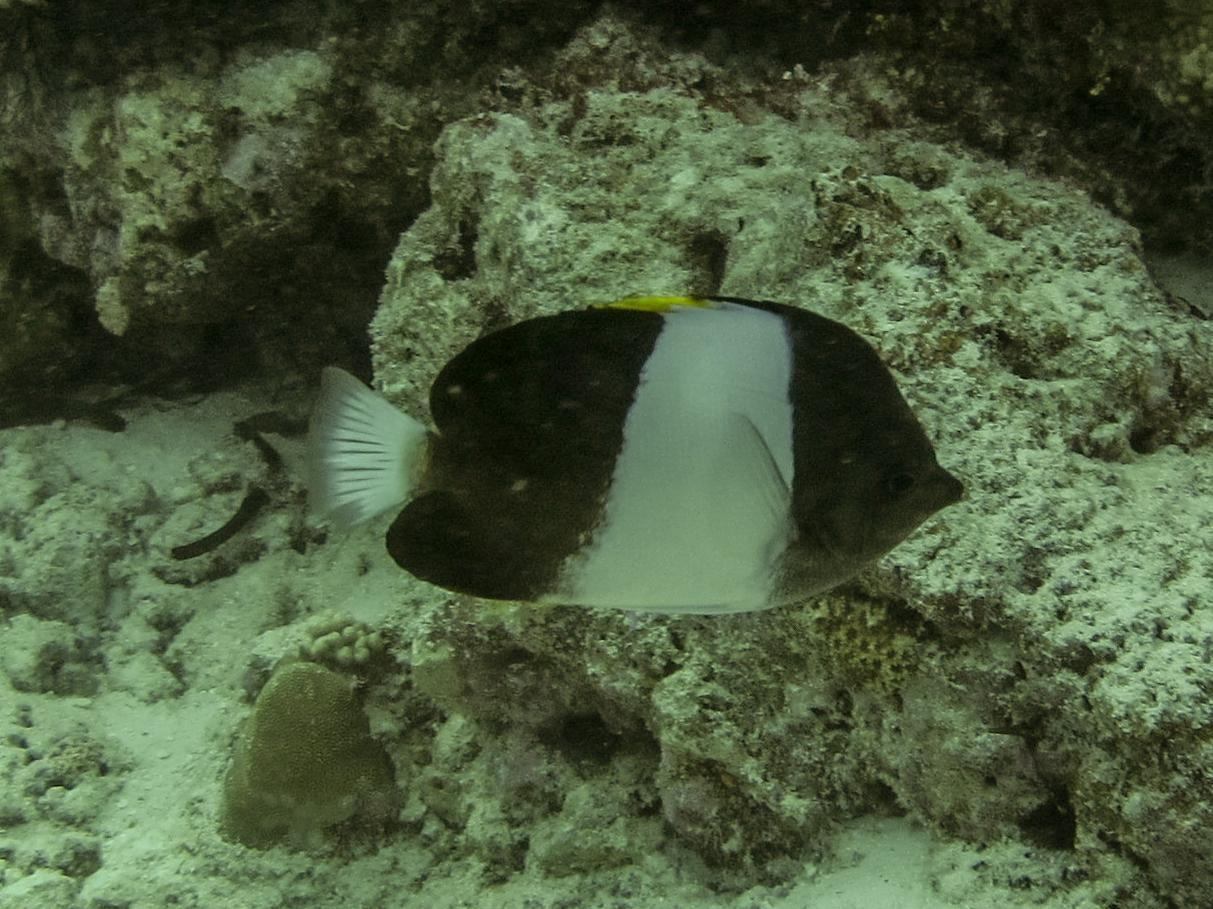Fish: (270, 287, 1004, 658)
